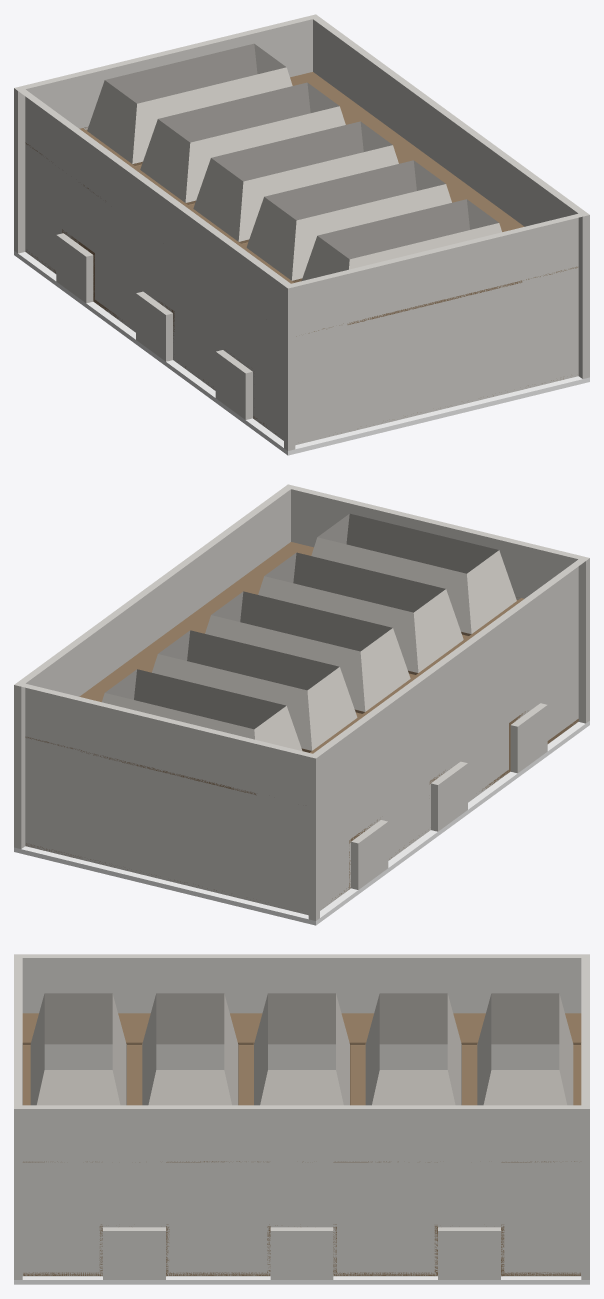
The model's file is T_root_modern_B.glb.
3 renders of one model, top to bottom at view 1: azimuth 30°, elevation 25°; view 2: azimuth 150°, elevation 25°; view 3: azimuth 270°, elevation 25°, orthographic. The views are drawn at different scales.
Visible parts, largest first — view 1: Walls, Wells, DoorFrames, Floor, Soffits, Beams; view 2: Walls, Wells, DoorFrames, Floor, Soffits, Beams; view 3: Walls, Wells, DoorFrames, Beams, Floor, Soffits, Skirting.
Part boxes in pixels (bbox=[...]): Walls: bbox=[14, 14, 589, 450]; Wells: bbox=[87, 43, 501, 281]; DoorFrames: bbox=[56, 229, 252, 419]; Floor: bbox=[14, 251, 589, 455]; Soffits: bbox=[25, 72, 577, 336]; Beams: bbox=[83, 127, 522, 324]; Walls: bbox=[14, 484, 589, 920]; Wells: bbox=[102, 513, 516, 751]; DoorFrames: bbox=[349, 703, 547, 889]; Floor: bbox=[14, 721, 589, 925]; Soffits: bbox=[25, 542, 524, 753]; Beams: bbox=[81, 597, 519, 795]; Walls: bbox=[14, 954, 589, 1279]; Wells: bbox=[30, 993, 573, 1105]; DoorFrames: bbox=[99, 1224, 504, 1279]; Beams: bbox=[22, 1043, 581, 1105]; Floor: bbox=[14, 1276, 589, 1284]; Soffits: bbox=[22, 1013, 581, 1162]; Skirting: bbox=[23, 1272, 580, 1275].
Size of the model in its own units: 21 by 11.1 by 33.
